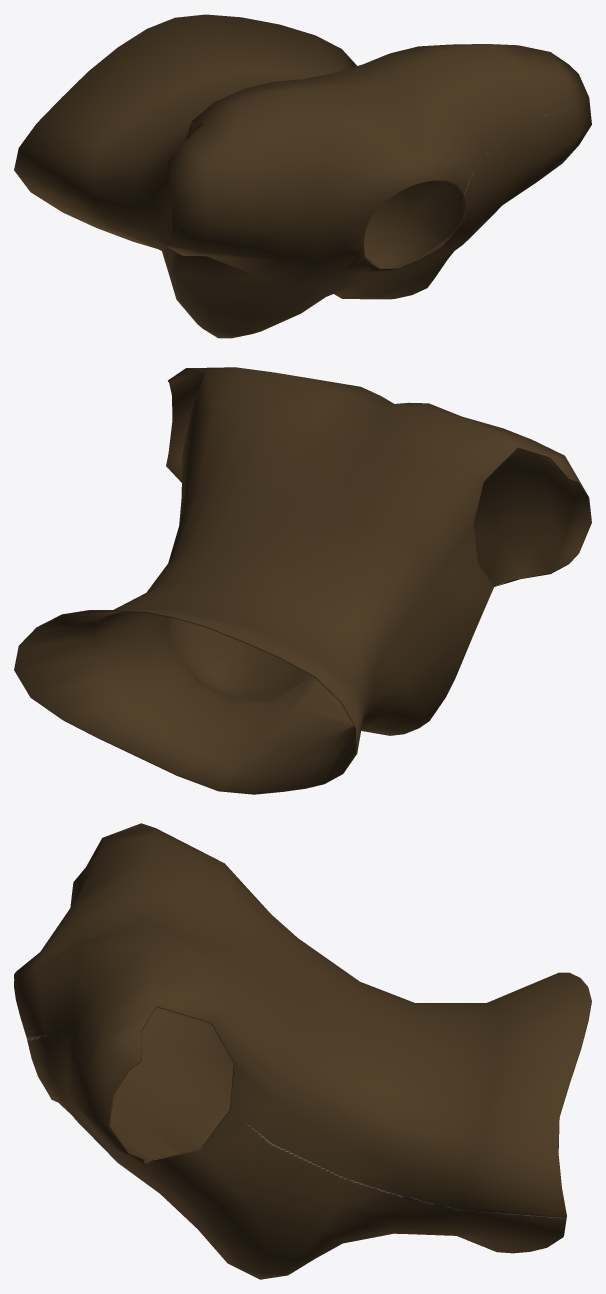
Rendered from leatherArmor.fbx.
3 views of the same model, one above another, from view 1: azimuth 30°, elevation 25°; view 2: azimuth 150°, elevation 25°; view 3: azimuth 270°, elevation 25° (orthographic). The views are drawn at different scales.
Parts seen in each view (by area): view 1: leatherArmor; view 2: leatherArmor; view 3: leatherArmor.
Part boxes in pixels (x1,y1,x2,y2): leatherArmor: (14,14,591,338); leatherArmor: (14,367,591,794); leatherArmor: (14,823,591,1279).
Size of the model in its own units: 0.3488 by 0.2313 by 0.3576.
1 material, 1 textured.
